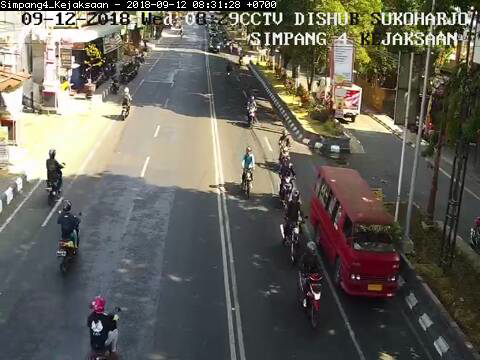motor: (295, 240, 326, 330), (283, 189, 304, 264), (278, 156, 296, 207), (241, 145, 253, 198), (244, 92, 259, 129)
